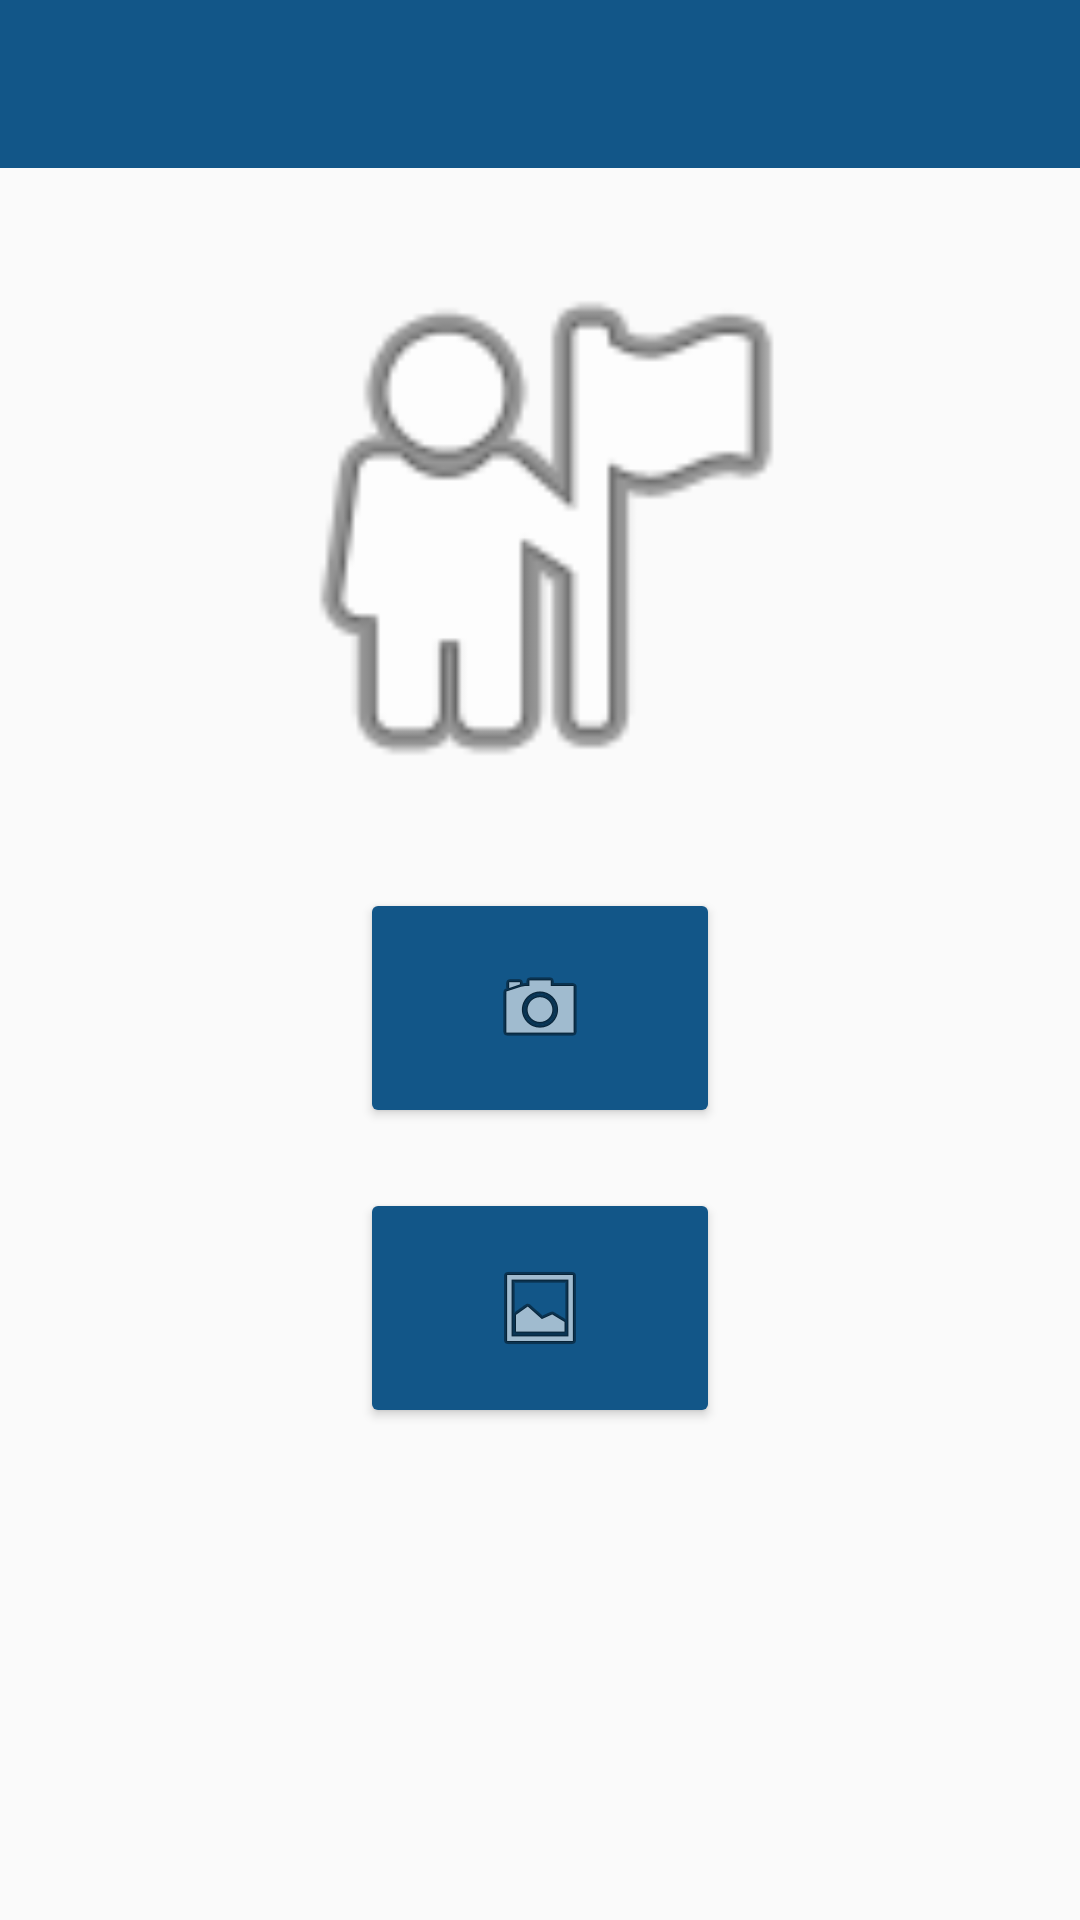

Icon bounding boxes for this 1080 × 1920 phone screenshot, format (x1=x1, y1=y1, x2=x2, y2=y2):
camera: (x1=372, y1=906, x2=708, y2=1112)
gallery: (x1=372, y1=1206, x2=708, y2=1414)
